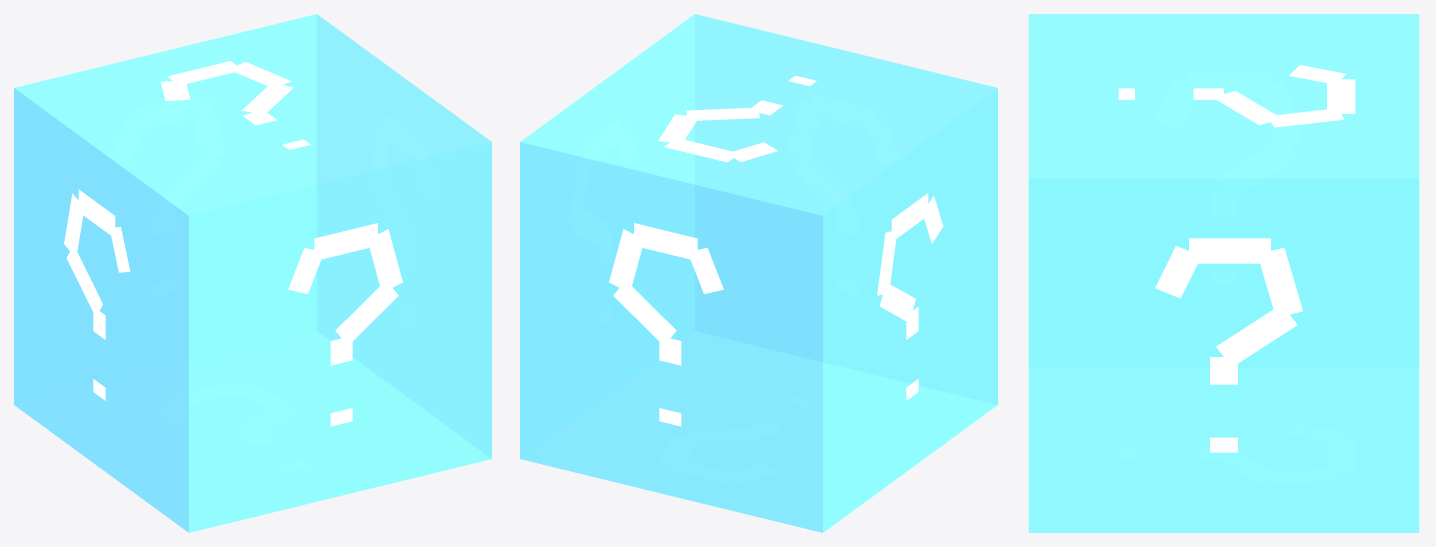
File: item_box.glb
The picture shows the model from 3 angles, left to right: view 1: azimuth 30°, elevation 25°; view 2: azimuth 150°, elevation 25°; view 3: azimuth 270°, elevation 25°; orthographic projection. The views are drawn at different scales.
Visible parts, largest first — view 1: Mystery cube, Question.013, Question.015, Question.014, Question.021, Question.019, Question.020, Question.012, Question.018, Question.031, Question.001, Question.003 (+11 smaller); view 2: Mystery cube, Question.019, Question.021, Question.013, Question.020, Question.015, Question.014, Question.018, Question.001, Question.012, Question.003, Question.033 (+9 smaller); view 3: Mystery cube, Question.007, Question.009, Question.008, Question.003, Question.001, Question.006, Question.002, Question, Question.031, Question.033, Question.032 (+7 smaller).
Boxes of the visible parts, left/top/right/bottom form: Mystery cube: left=14, top=14, right=491, bottom=532; Question.013: left=314, top=223, right=377, bottom=260; Question.015: left=335, top=280, right=398, bottom=344; Question.014: left=367, top=229, right=402, bottom=292; Question.021: left=159, top=157, right=220, bottom=215; Question.019: left=137, top=94, right=199, bottom=128; Question.020: left=193, top=100, right=224, bottom=162; Question.012: left=288, top=247, right=323, bottom=293; Question.018: left=111, top=118, right=145, bottom=163; Question.031: left=167, top=61, right=242, bottom=85; Question.001: left=78, top=189, right=115, bottom=235; Question.003: left=66, top=251, right=102, bottom=317; Mystery cube: left=520, top=14, right=997, bottom=532; Question.019: left=634, top=223, right=697, bottom=260; Question.021: left=613, top=280, right=676, bottom=345; Question.013: left=812, top=94, right=874, bottom=128; Question.020: left=609, top=229, right=643, bottom=292; Question.015: left=791, top=157, right=852, bottom=214; Question.014: left=787, top=100, right=818, bottom=162; Question.018: left=688, top=247, right=723, bottom=293; Question.001: left=891, top=193, right=928, bottom=241; Question.012: left=866, top=118, right=900, bottom=163; Question.003: left=879, top=282, right=915, bottom=322; Question.033: left=686, top=107, right=759, bottom=120; Mystery cube: left=1028, top=14, right=1419, bottom=532; Question.007: left=1189, top=238, right=1270, bottom=263; Question.009: left=1216, top=307, right=1297, bottom=367; Question.008: left=1257, top=247, right=1302, bottom=317; Question.003: left=1216, top=142, right=1296, bottom=199; Question.001: left=1189, top=71, right=1270, bottom=95; Question.006: left=1155, top=246, right=1201, bottom=298; Question.002: left=1261, top=81, right=1302, bottom=149; Question: left=1155, top=79, right=1197, bottom=130; Question.031: left=1327, top=79, right=1355, bottom=113; Question.033: left=1213, top=90, right=1277, bottom=125; Question.032: left=1267, top=108, right=1344, bottom=127.
Bounding box in the file's own units: 1.52 × 1.52 × 1.52.
